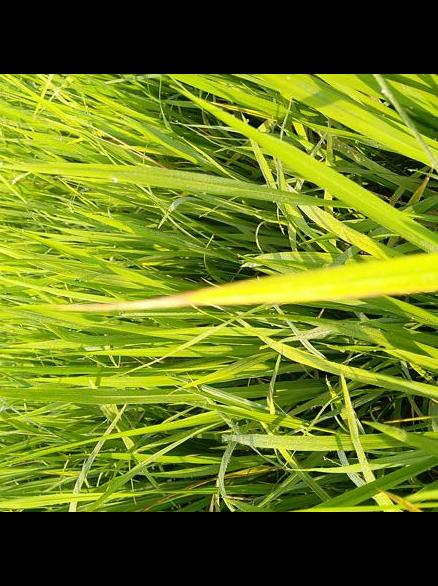Leaf Blight: (38, 289, 199, 311), (339, 291, 389, 300)
